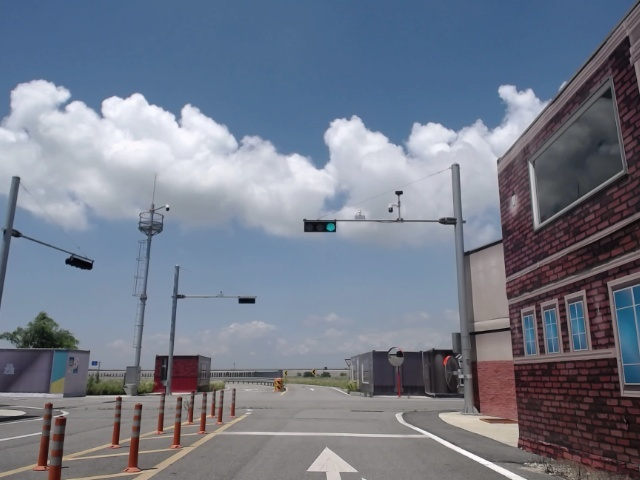green_3: (304, 222, 335, 233)
